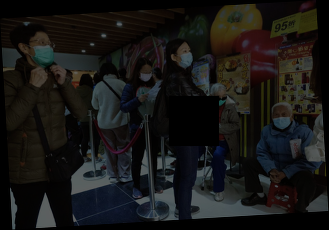with_mask: (28, 35, 55, 68), (273, 109, 293, 130), (177, 45, 194, 68), (138, 68, 154, 83), (213, 93, 229, 107)
